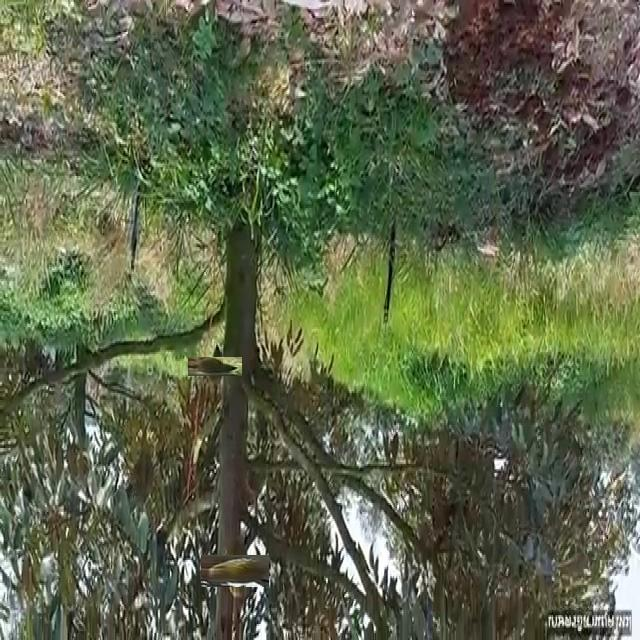durian: (210, 546, 261, 596), (196, 348, 234, 386)
